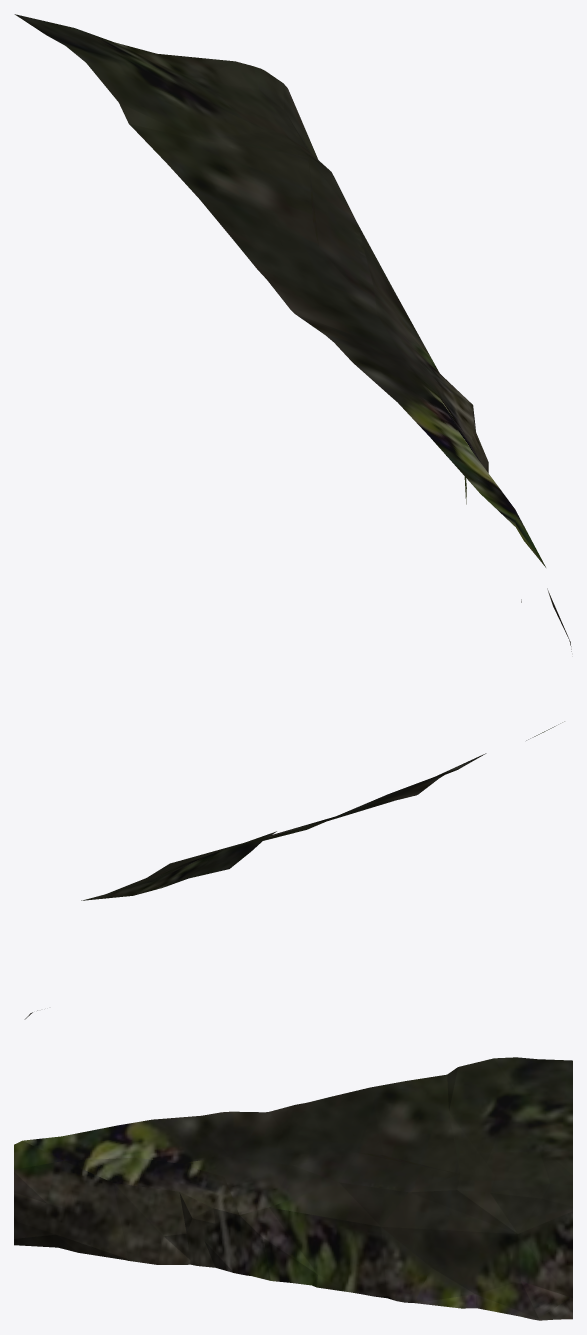
3 views of the same model, one above another, from view 1: azimuth 30°, elevation 25°; view 2: azimuth 150°, elevation 25°; view 3: azimuth 270°, elevation 25° (orthographic). The views are drawn at different scales.
Bounding box in the file's own units: 0.3088 × 0.2912 × 0.8374.
Materials: 1 (1 with a texture image).
